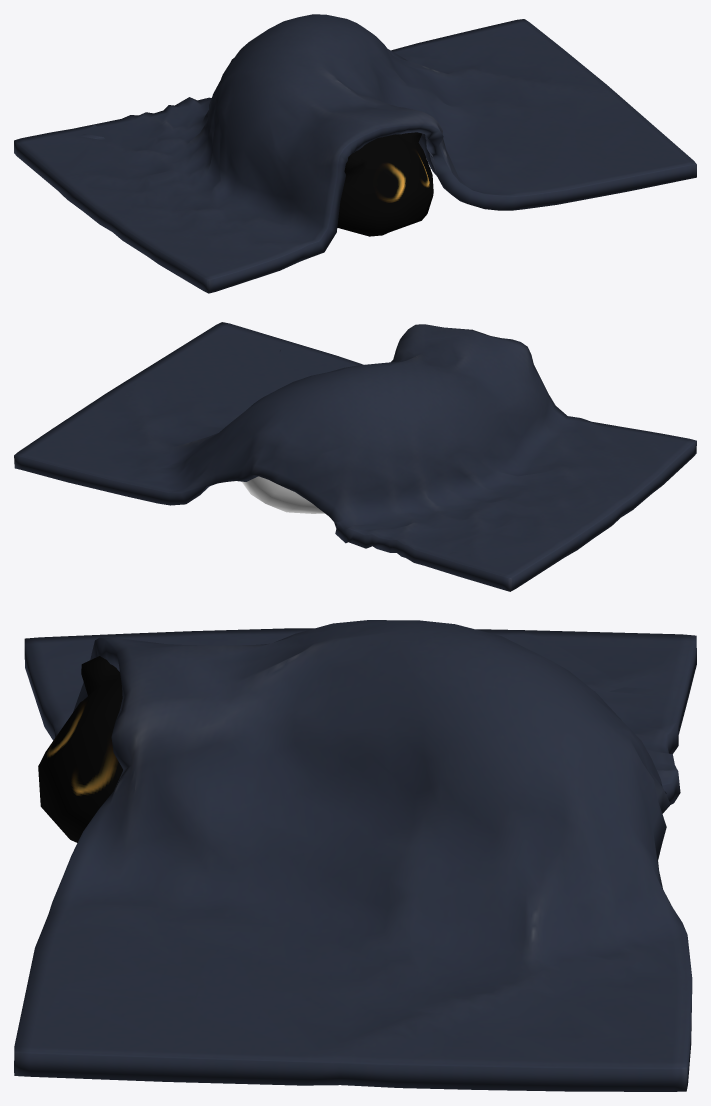
The model's file is cat.lod1.glb.
3 renders of one model, top to bottom at view 1: azimuth 30°, elevation 25°; view 2: azimuth 150°, elevation 25°; view 3: azimuth 270°, elevation 25°, orthographic. The views are drawn at different scales.
Visible parts, largest first — view 1: Cat in a Blanket.001; view 2: Cat in a Blanket.001; view 3: Cat in a Blanket.001.
Part boxes in pixels (x1,y1,x2,y2): Cat in a Blanket.001: (14,14,696,293); Cat in a Blanket.001: (14,322,696,591); Cat in a Blanket.001: (14,620,696,1091).
Size of the model in its own units: 0.4152 by 0.0942 by 0.2714.
Materials: 3 (2 with a texture image).
